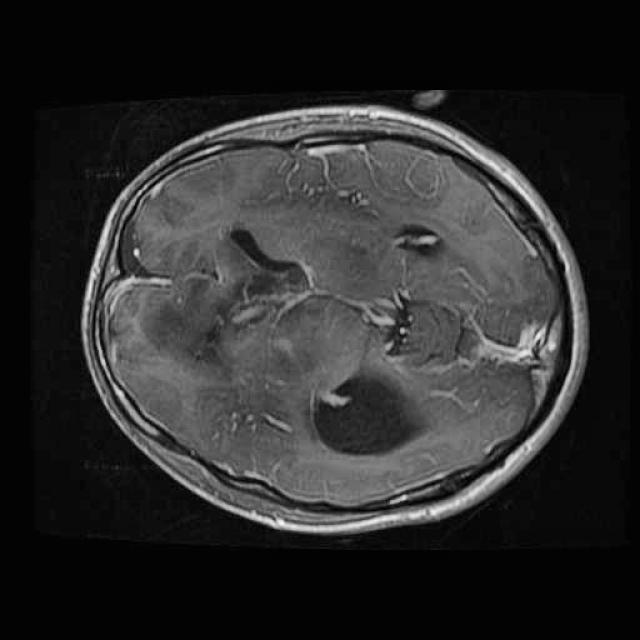Tumor: (288, 349, 471, 487)
